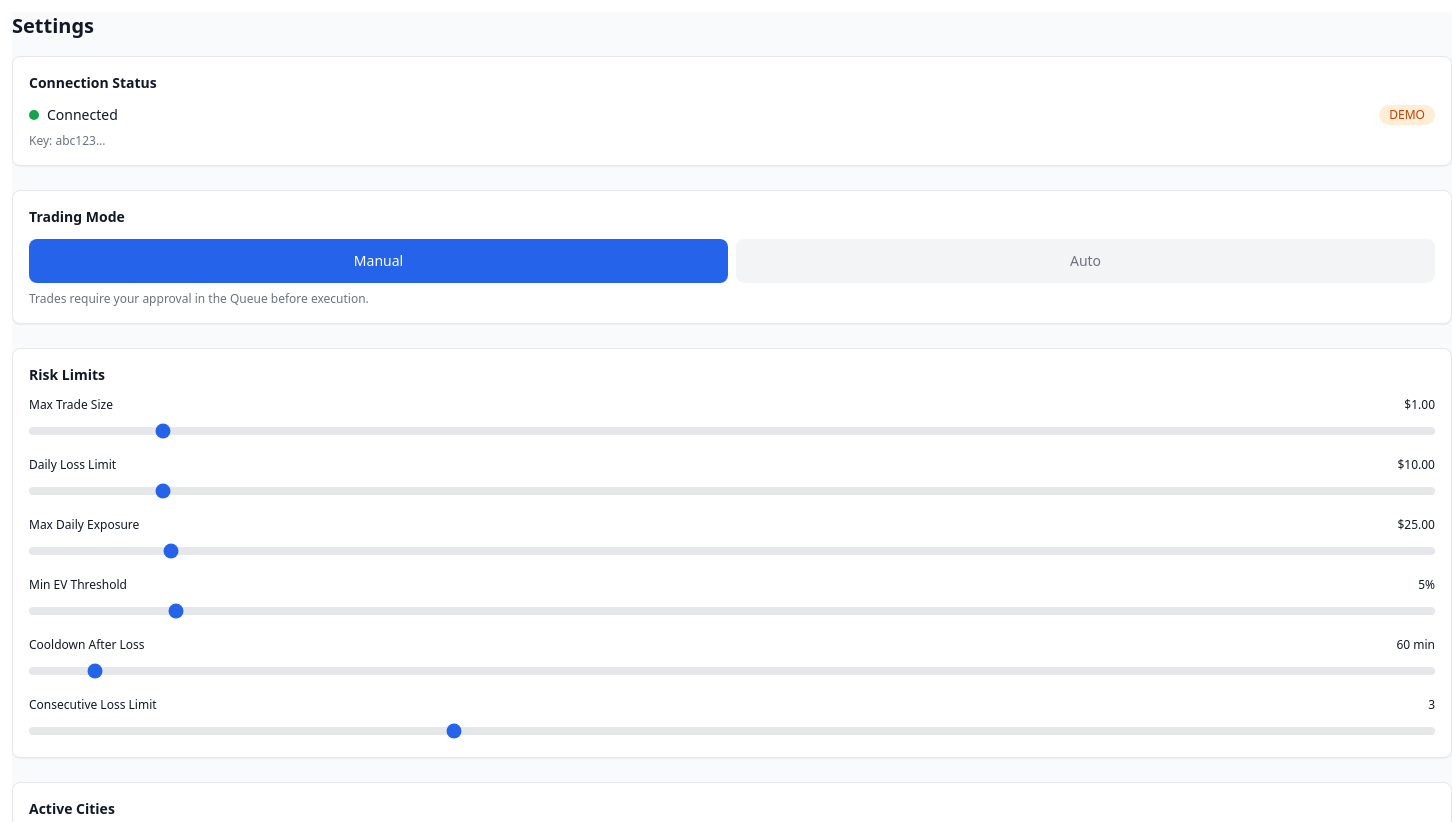
Test case: SettingsPage › slider changes update display values
Note: Change the first slider (max trade size)
Set the slider below "Max Trade Size" to "200" at (304, 431), box [29, 427, 1435, 435]
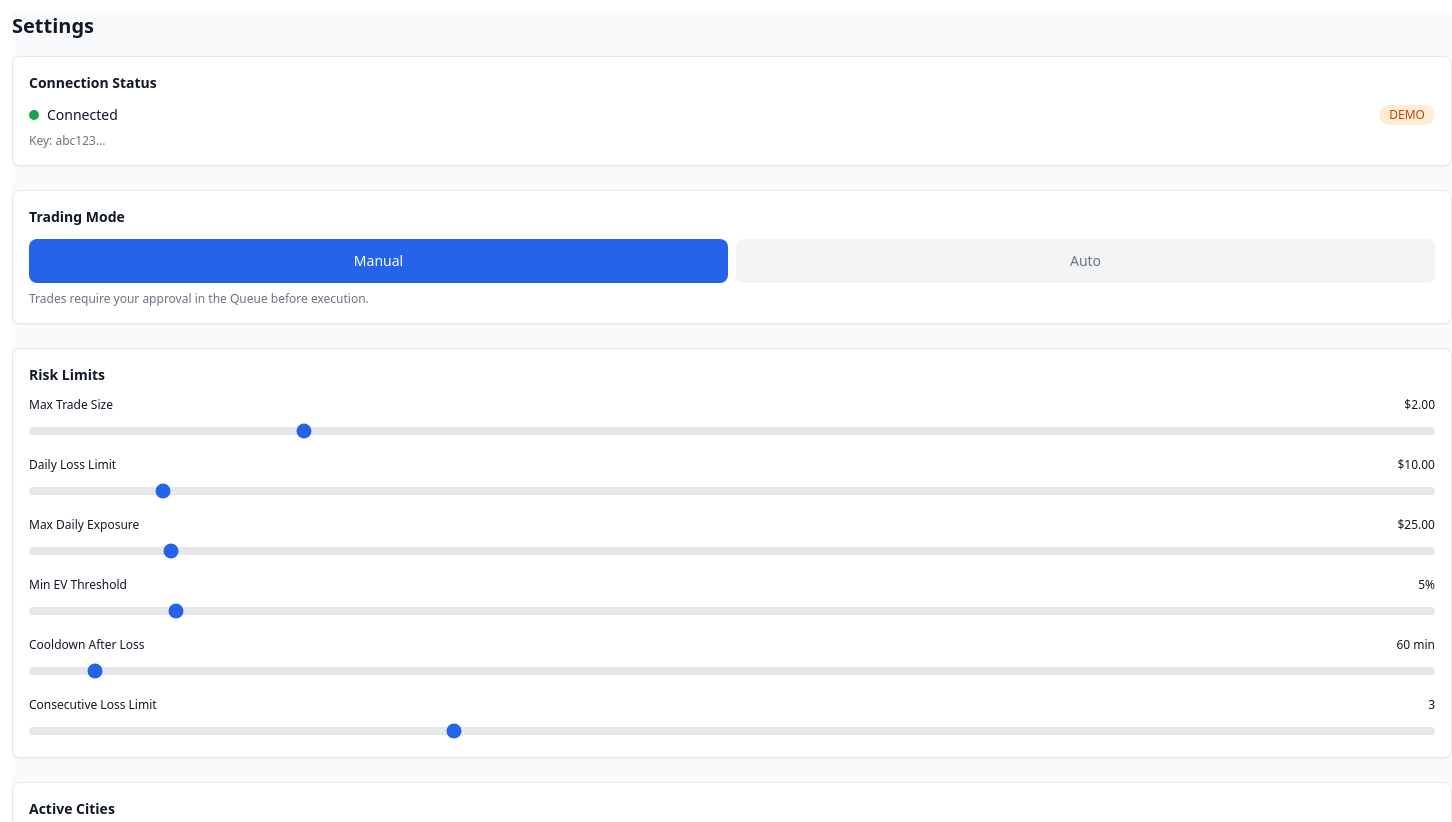
Now the text "$2.00" is shown, box [1404, 397, 1435, 413]
